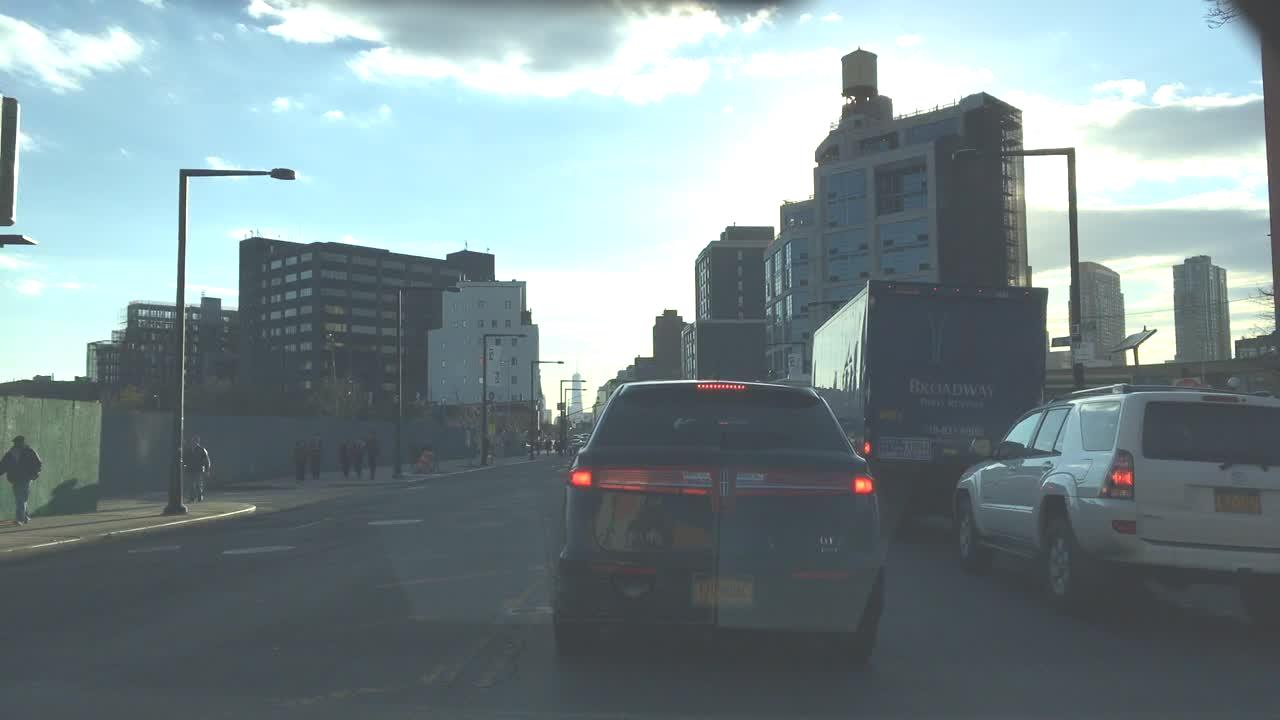lincoln: (715, 464, 731, 500)
